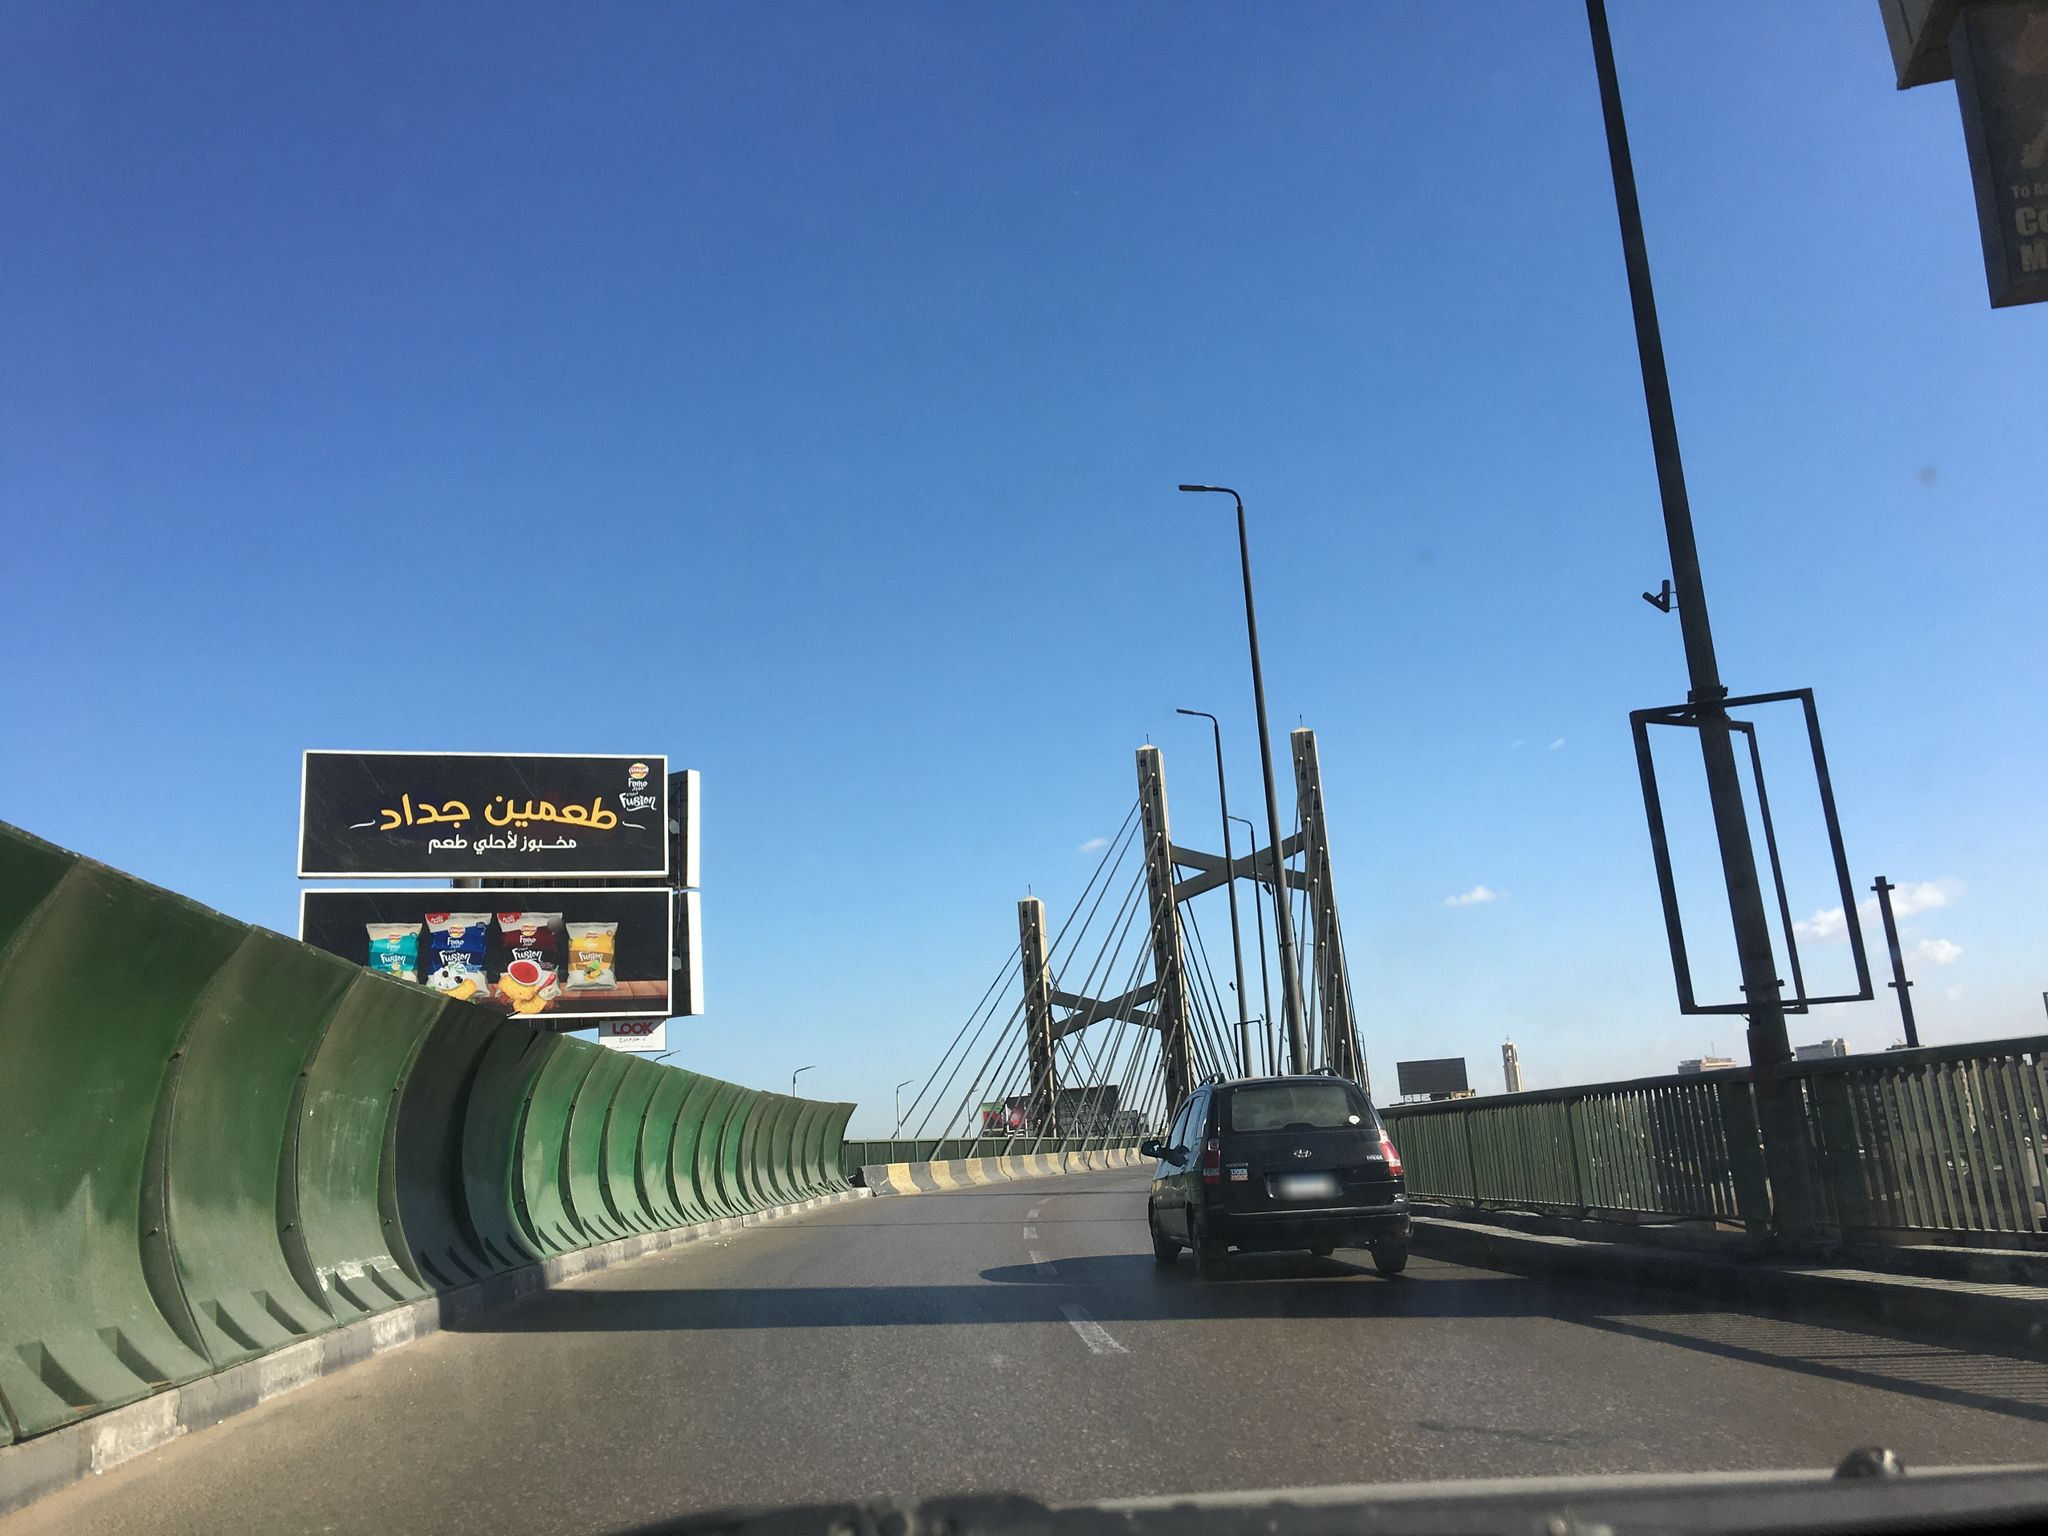car: (1147, 1066, 1417, 1276)
